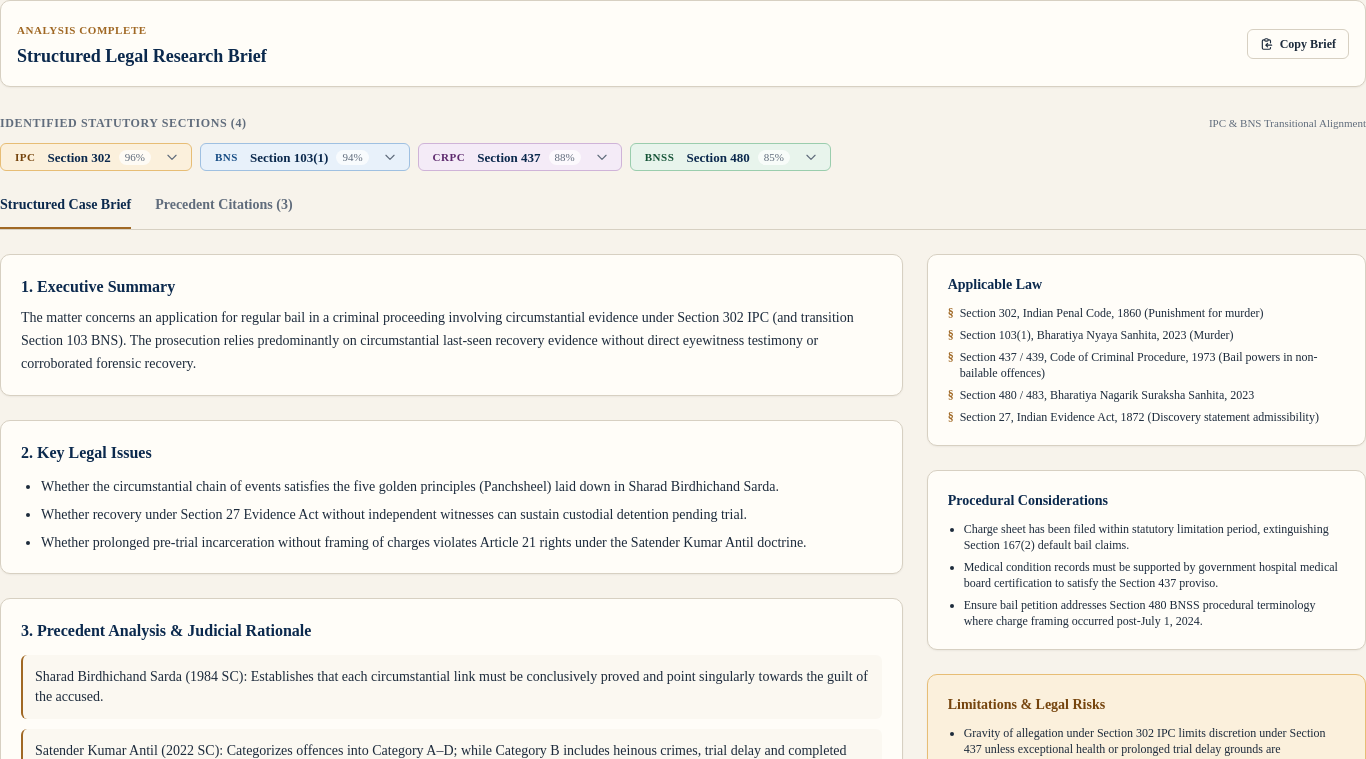
Scenario: ProfessionalResultsView Component › switches between structured case brief and precedents tab
Expected: the heading "1. Executive Summary" is shown, x1=21 y1=278 x2=175 y2=295
Note: Click Precedent Citations tab
What coordinates should you click on to do the following:
click the button "Precedent Citations (3)"
I would click on:
 (224, 212)
Its box is x1=155 y1=195 x2=293 y2=229.
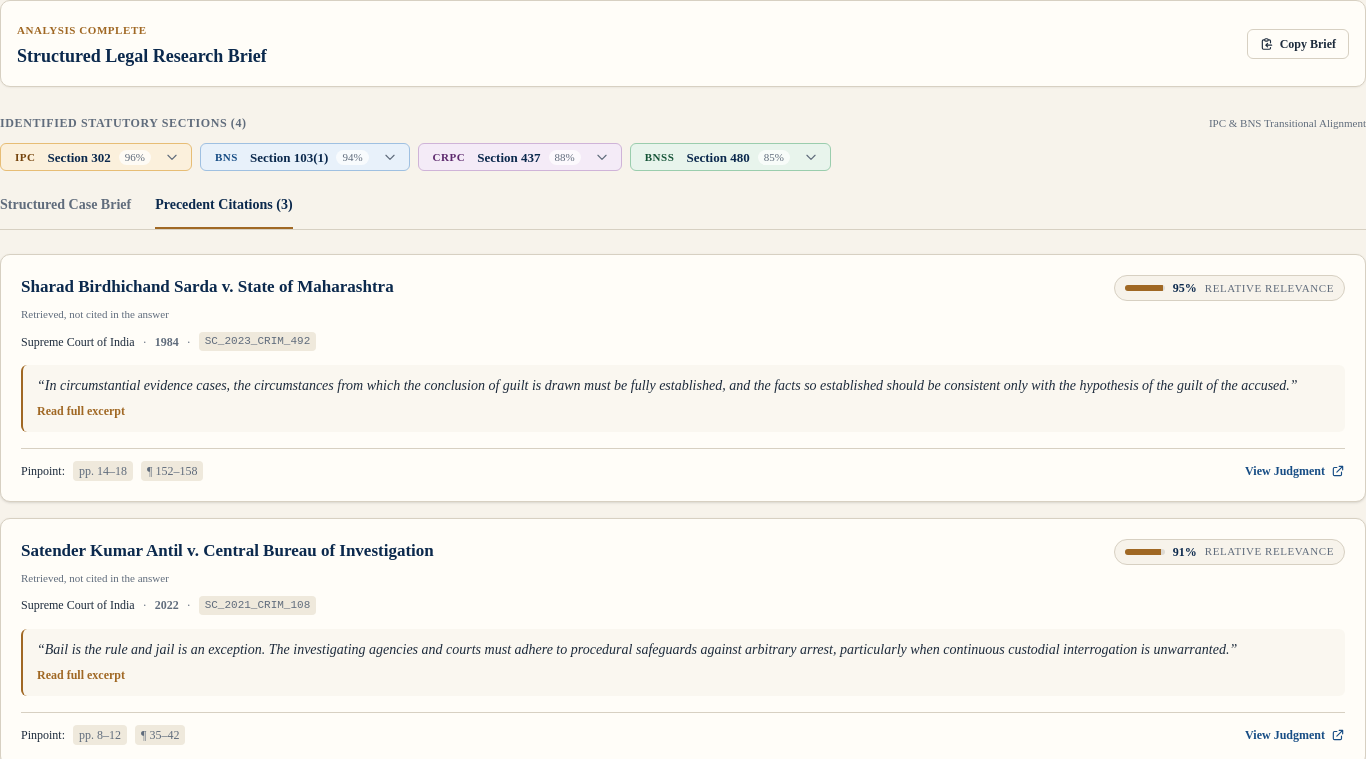
Expected: the heading "Sharad Birdhichand Sarda v. State of Maharashtra" is shown, x1=21 y1=277 x2=394 y2=296
